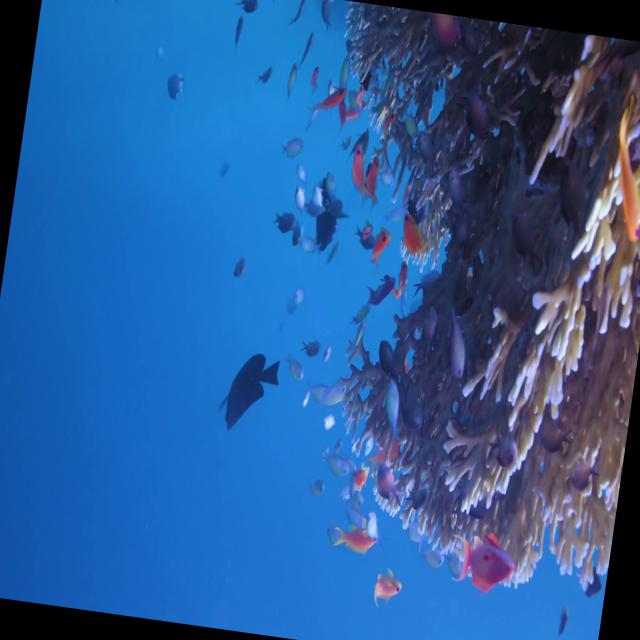fish: (204, 326, 298, 456), (592, 93, 640, 246), (452, 522, 522, 610), (344, 269, 394, 338), (361, 554, 406, 620), (306, 73, 354, 134), (334, 514, 381, 567), (384, 242, 416, 316), (361, 212, 399, 270), (272, 195, 304, 240)
